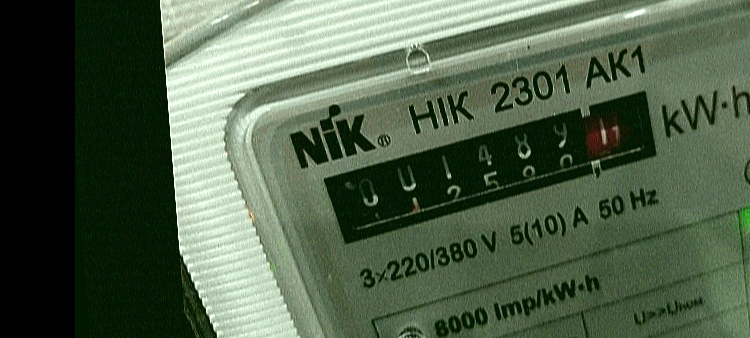0: (392, 156, 420, 194), (355, 173, 381, 209)
1: (591, 108, 613, 148), (435, 149, 457, 181)
4: (472, 136, 497, 168)
8: (511, 125, 535, 162)
9: (550, 116, 572, 149)
screen: (306, 77, 692, 257)
